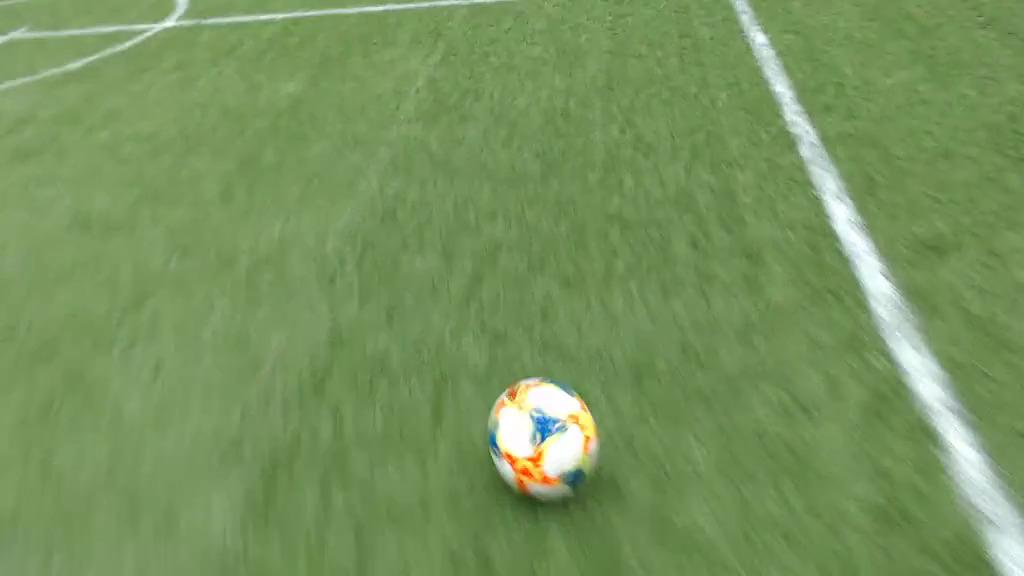ball: (489, 378, 598, 504)
